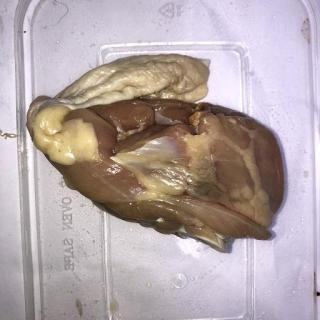Ayam: (26, 54, 286, 255)
